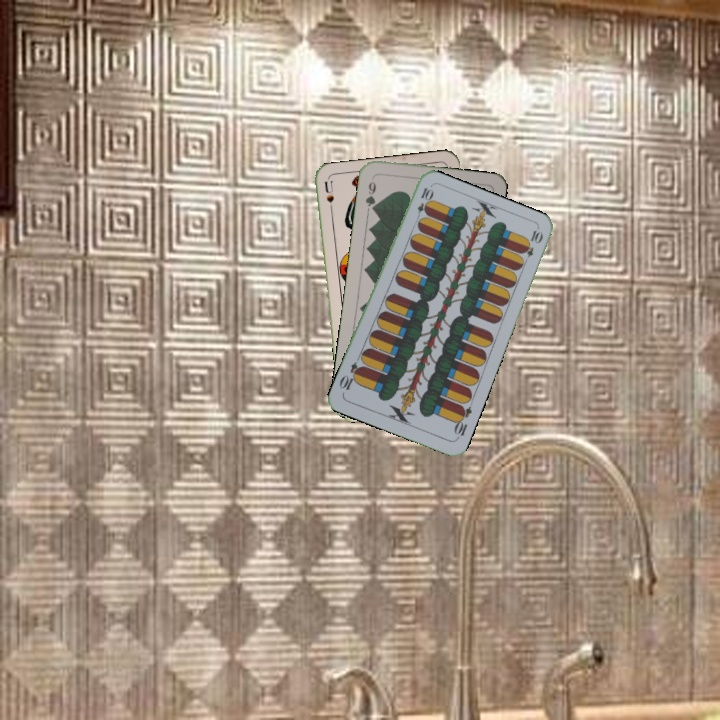E10: (450, 401, 474, 442), (412, 183, 434, 223)
G9: (361, 173, 379, 214)
SU: (320, 177, 336, 218)
